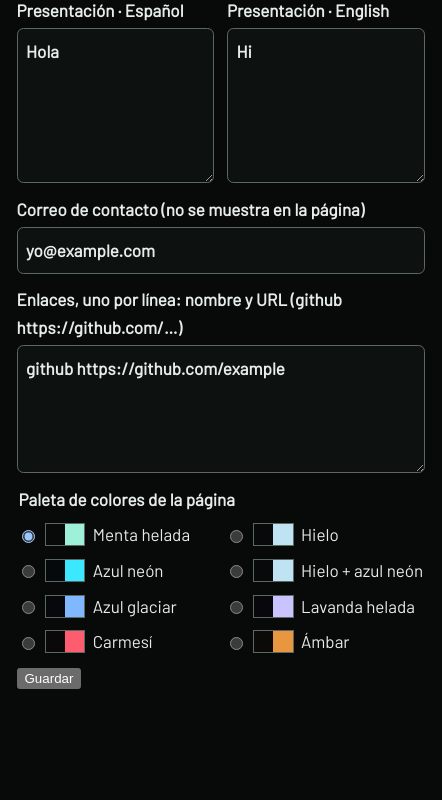
admin panel: profile, skills and experience › if the API rejects the profile (422), asks to check the fields
The width and height of the screenshot is (442, 800).
(page scrolled)
Click the button "Guardar".
click(49, 679)  # box [16,668,81,689]
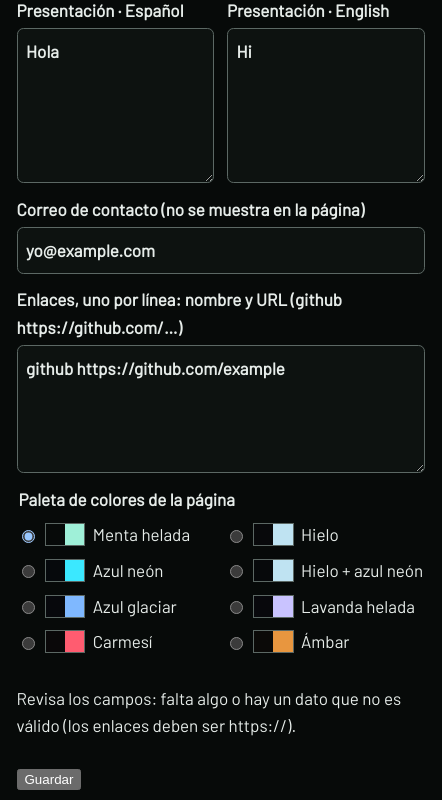
Result: the message shows "Revisa los campos" at [16,688,401,735]
